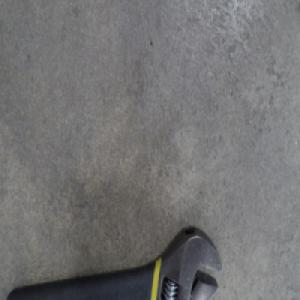AdjustableWrench: (10, 223, 226, 299)
